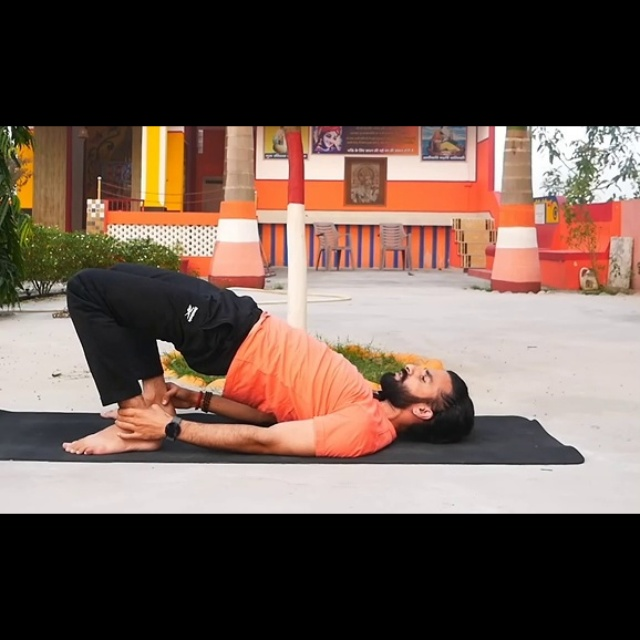Bridge_Pose: (50, 245, 481, 459)
